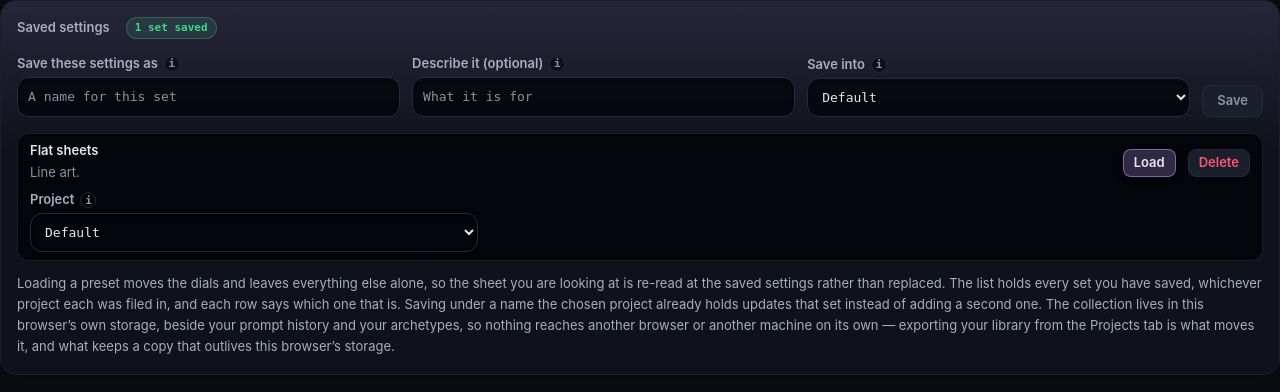
it: QuantisePresetControls › asks before deleting, and deletes nothing on the first press
What coordinates should you click on to do the following:
click the button with aria-label "Delete the saved settings “Flat sheets”"
I would click on:
 (1219, 162)
Its box is left=1188, top=148, right=1250, bottom=176.
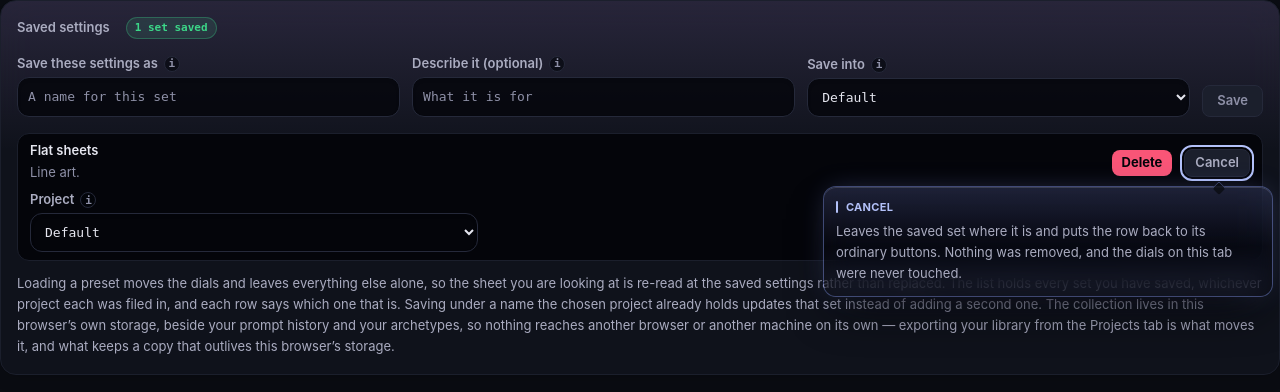
Check: the button with aria-label "Delete the saved settings “Flat sheets”, for good" is shown, box left=1112, top=150, right=1172, bottom=176
